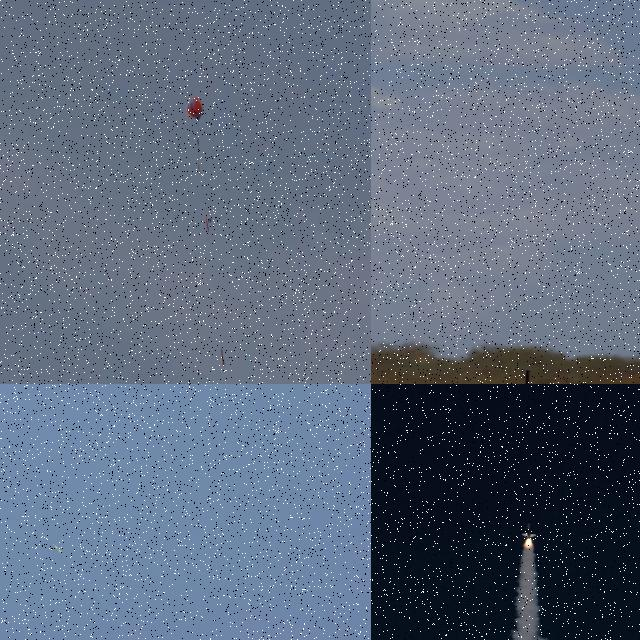Rocket: (521, 523, 537, 539), (52, 544, 63, 553), (221, 348, 225, 368)
